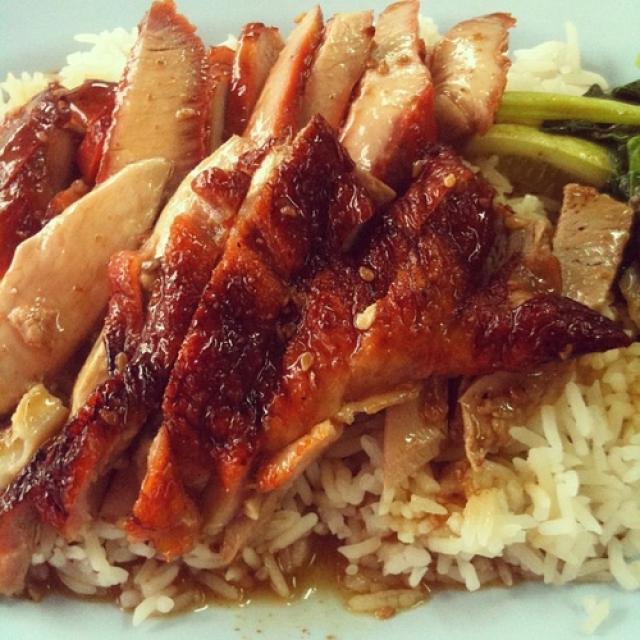米饭主食: (11, 18, 630, 610)
